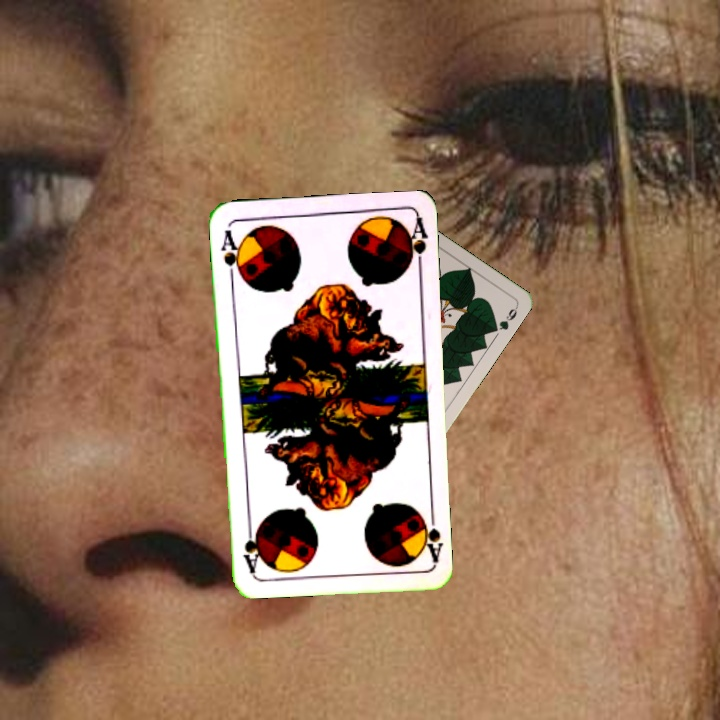SA: (415, 505, 444, 564), (217, 226, 245, 283)
